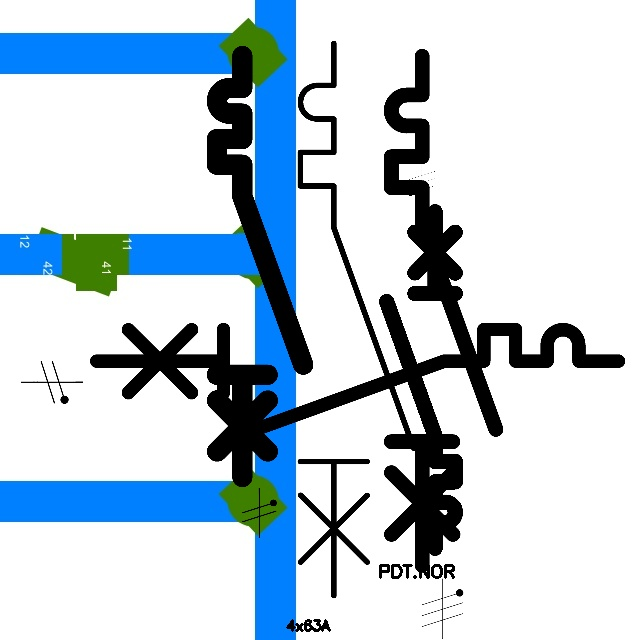interruptor_termomagnetico: (286, 29, 428, 610), (83, 316, 632, 450), (378, 43, 509, 579), (206, 45, 314, 488), (378, 203, 464, 557)
